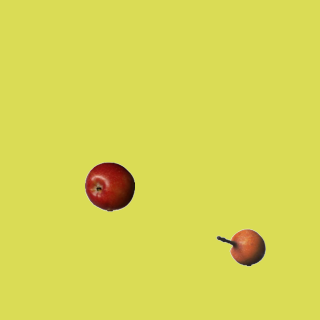Apple Braeburn: (84, 161, 134, 211)
Granadilla: (215, 222, 265, 272)
